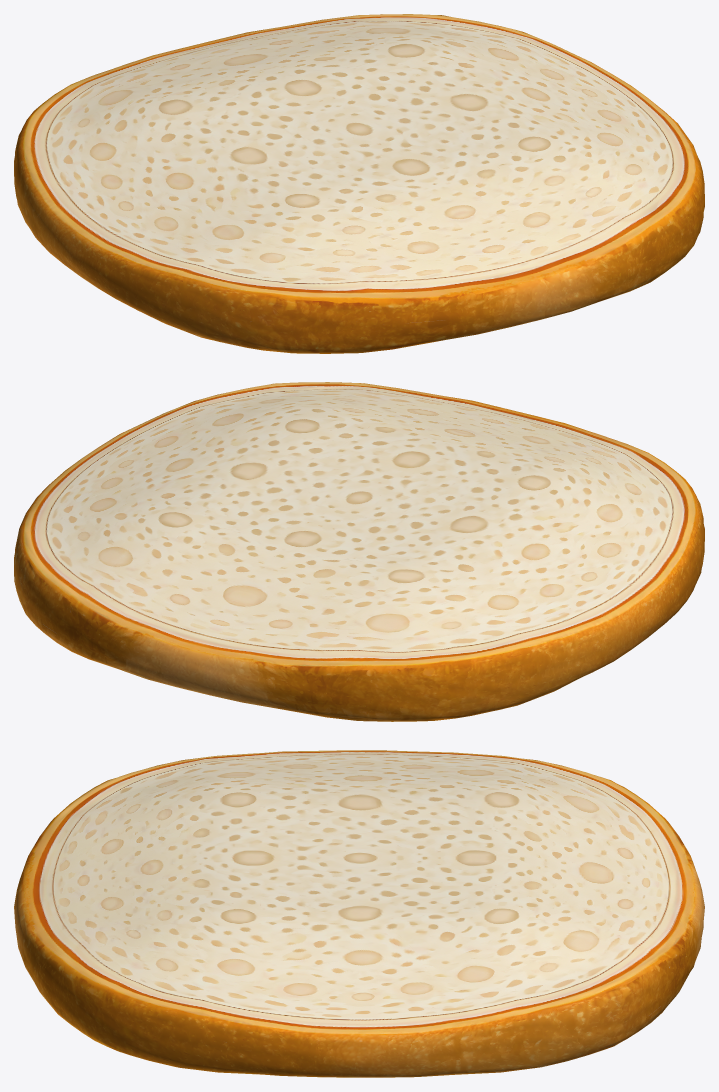
Rendered from Bread_slice.fbx.
3 renders of one model, top to bottom at view 1: azimuth 30°, elevation 25°; view 2: azimuth 150°, elevation 25°; view 3: azimuth 270°, elevation 25°, orthographic. The views are drawn at different scales.
Parts seen in each view (by area): view 1: Mesh_0.006; view 2: Mesh_0.006; view 3: Mesh_0.006.
Boxes of the visible parts, x1,y1,x2,y2 form: Mesh_0.006: (14,14,704,353); Mesh_0.006: (14,382,704,721); Mesh_0.006: (14,750,704,1077).
Size of the model in its own units: 38.12 by 6.81 by 38.12.
Materials: 1 (1 with a texture image).
